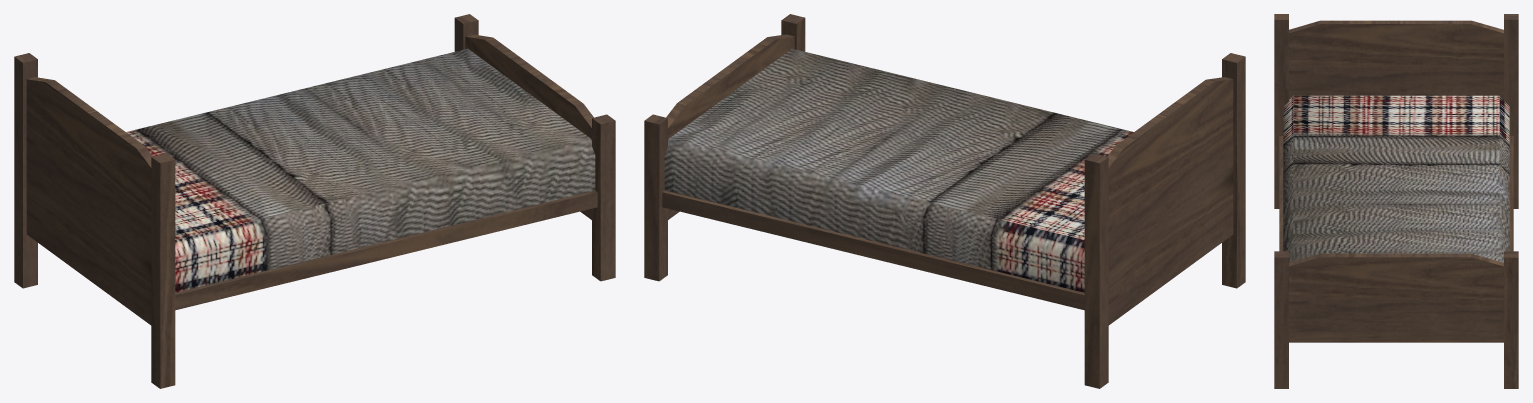
File: bed-col.glb
3 renders of one model, left to right at view 1: azimuth 30°, elevation 25°; view 2: azimuth 150°, elevation 25°; view 3: azimuth 270°, elevation 25°, orthographic. The views are drawn at different scales.
Visible parts, largest first — view 1: bed-col; view 2: bed-col; view 3: bed-col.
Part boxes in pixels (left/top/right/bottom): bed-col: left=14, top=14, right=615, bottom=388; bed-col: left=644, top=14, right=1245, bottom=388; bed-col: left=1274, top=14, right=1518, bottom=388.
Size of the model in its own units: 60.45 by 28.6 by 33.54.
Materials: 1 (1 with a texture image).
